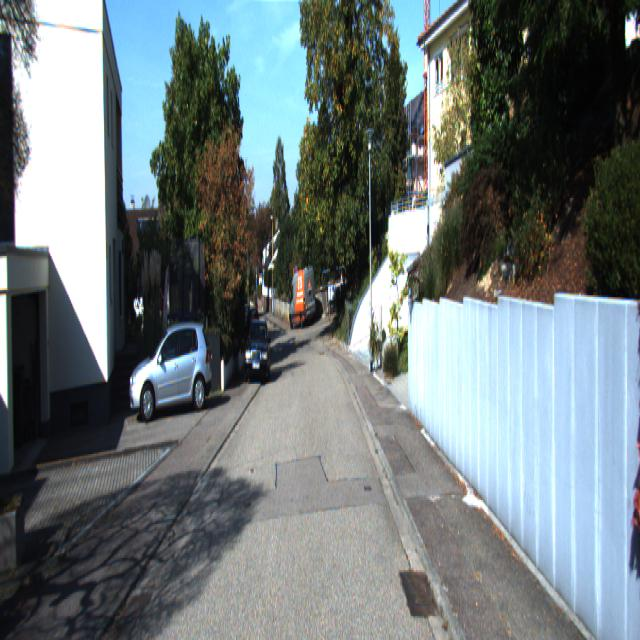Car: (128, 320, 213, 424), (244, 317, 272, 384), (288, 267, 316, 330)
